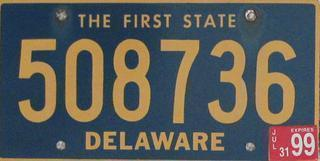placa de veiculo: (1, 3, 318, 160)
